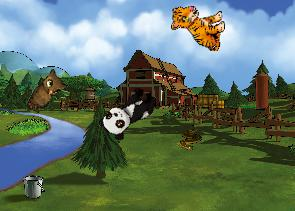owl: (25, 66, 71, 120)
panda: (96, 80, 161, 144)
tiger: (170, 4, 226, 51)
